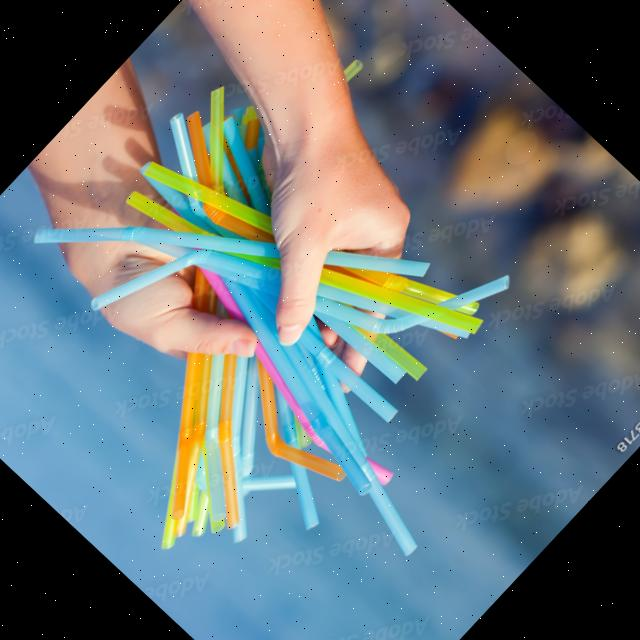plastic: (160, 402, 304, 546)
